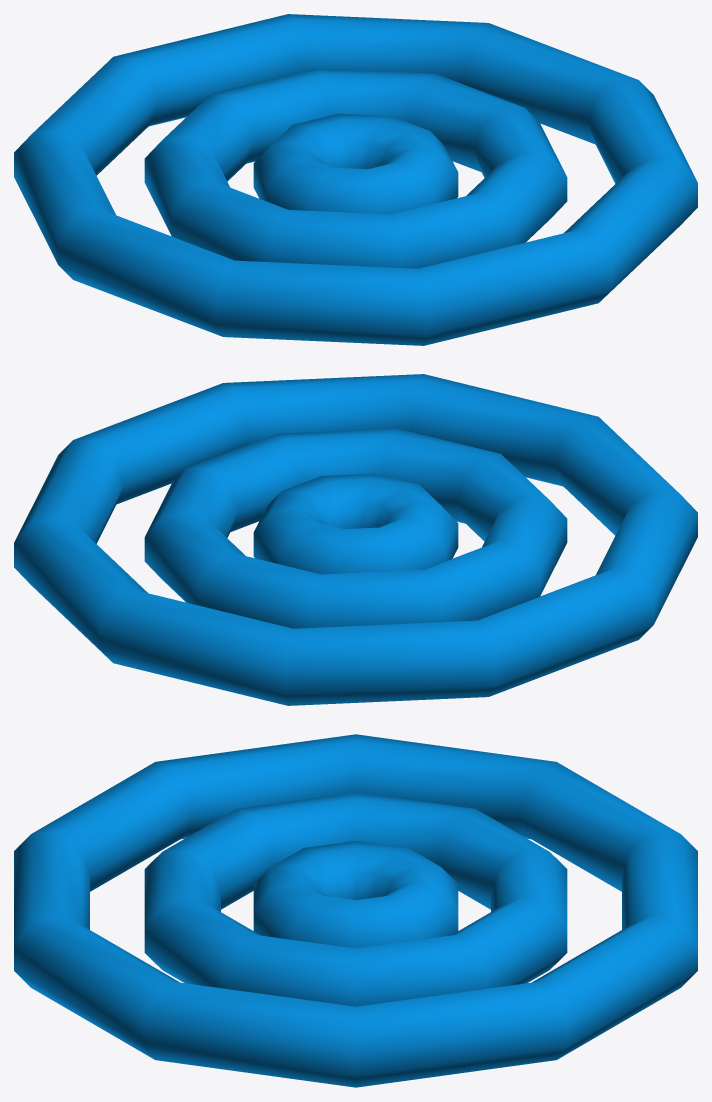
The model's file is MoveToTarget.fbx.
3 renders of one model, top to bottom at view 1: azimuth 30°, elevation 25°; view 2: azimuth 150°, elevation 25°; view 3: azimuth 270°, elevation 25°, orthographic. The views are drawn at different scales.
Visible parts, largest first — view 1: pTorus4; view 2: pTorus4; view 3: pTorus4.
Part boxes in pixels (x1,y1,x2,y2): pTorus4: (14, 14, 697, 345); pTorus4: (14, 374, 697, 705); pTorus4: (14, 734, 697, 1087).
Size of the model in its own units: 157 by 17.73 by 149.
